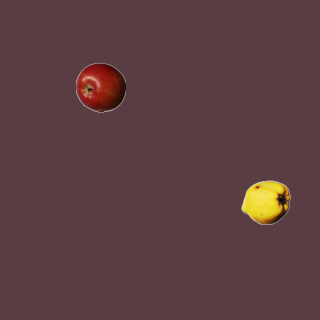Apple Braeburn: (75, 62, 125, 112)
Quince: (240, 177, 290, 227)
